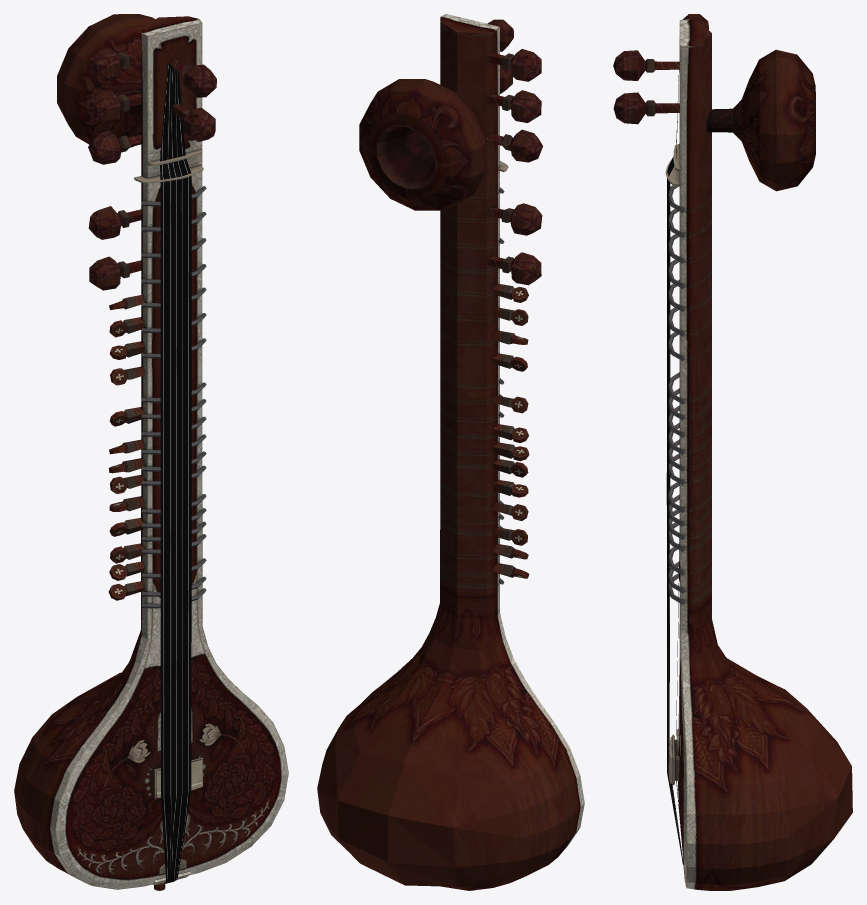
File: sita.glb
3 renders of one model, left to right at view 1: azimuth 30°, elevation 25°; view 2: azimuth 150°, elevation 25°; view 3: azimuth 270°, elevation 25°, orthographic. The views are drawn at different scales.
Visible parts, largest first — view 1: sitar_body.mesh_0, sitar_strings.mesh_1; view 2: sitar_body.mesh_0; view 3: sitar_body.mesh_0, sitar_strings.mesh_1.
Part boxes in pixels (left/top/right/bottom): sitar_body.mesh_0: left=14, top=14, right=288, bottom=890; sitar_strings.mesh_1: left=160, top=63, right=191, bottom=883; sitar_body.mesh_0: left=317, top=14, right=584, bottom=890; sitar_body.mesh_0: left=613, top=14, right=852, bottom=890; sitar_strings.mesh_1: left=666, top=70, right=683, bottom=864.
Size of the model in its own units: 12.19 by 42.38 by 10.87.
2 materials, 2 textured.
